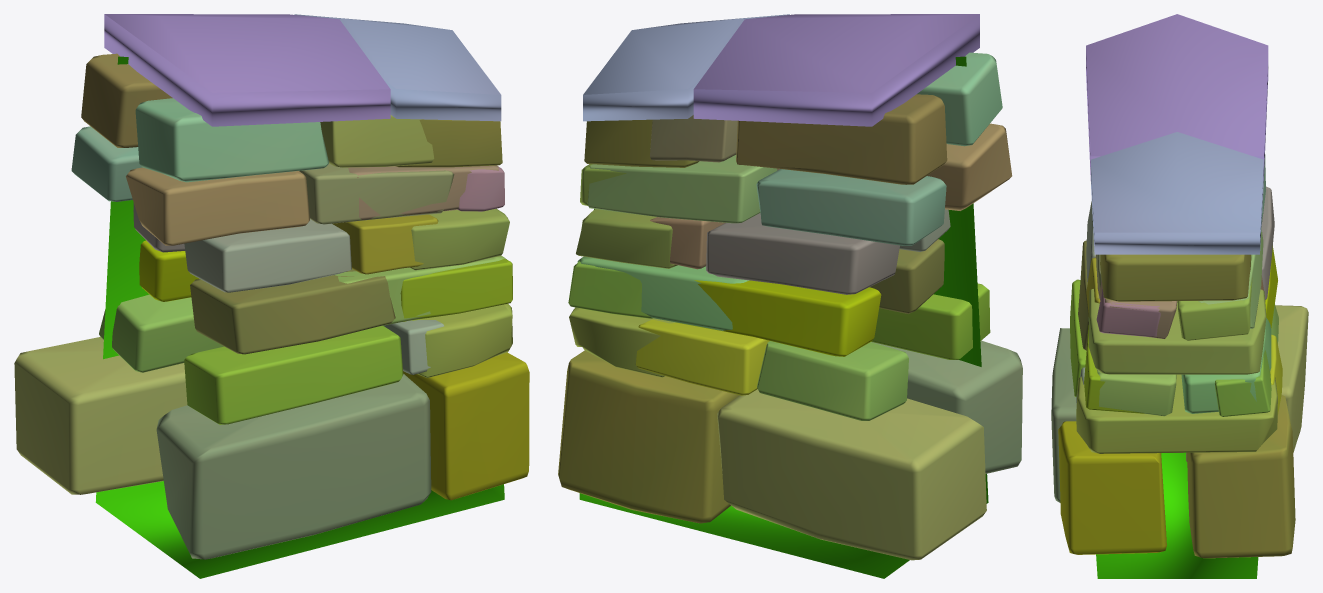
Rendered from SM_Prop_wall_end_21.glb.
3 views of the same model, side by side, from view 1: azimuth 30°, elevation 25°; view 2: azimuth 150°, elevation 25°; view 3: azimuth 270°, elevation 25° (orthographic). The views are drawn at different scales.
Visible parts, largest first — view 1: SM_Prop_wall_end_21; view 2: SM_Prop_wall_end_21; view 3: SM_Prop_wall_end_21.
Part boxes in pixels (bbox=[...]): SM_Prop_wall_end_21: bbox=[14, 14, 529, 578]; SM_Prop_wall_end_21: bbox=[558, 14, 1022, 578]; SM_Prop_wall_end_21: bbox=[1051, 14, 1308, 578].
Bounding box in the file's own units: 1.19 × 1.55 × 0.8168.
